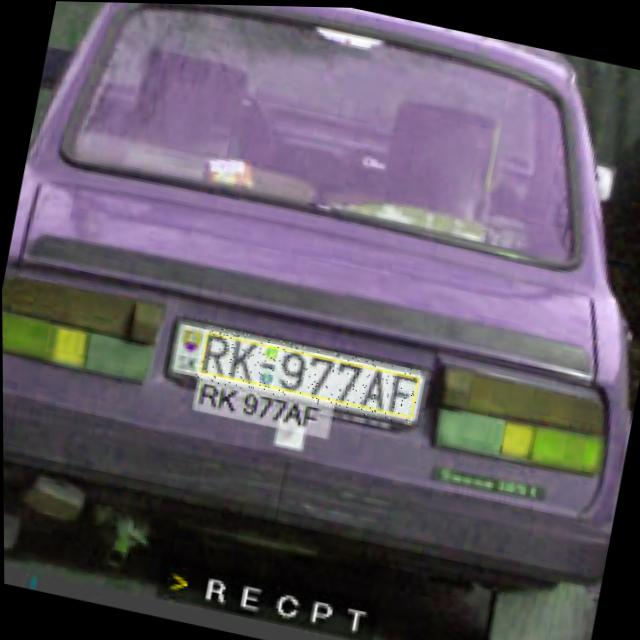license_plate: (194, 323, 421, 424)
